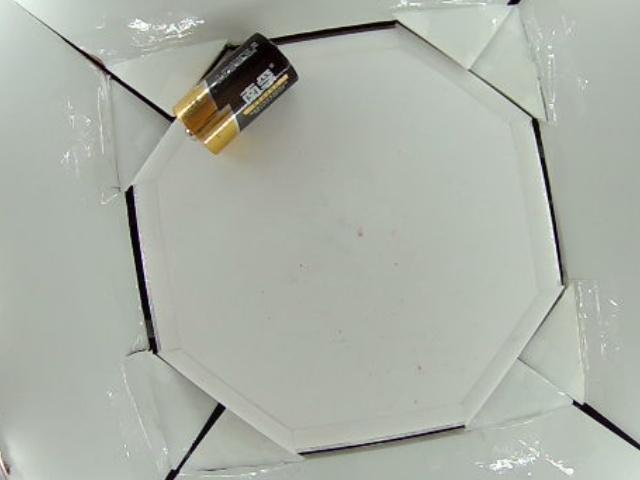Battery: (173, 33, 302, 155)
